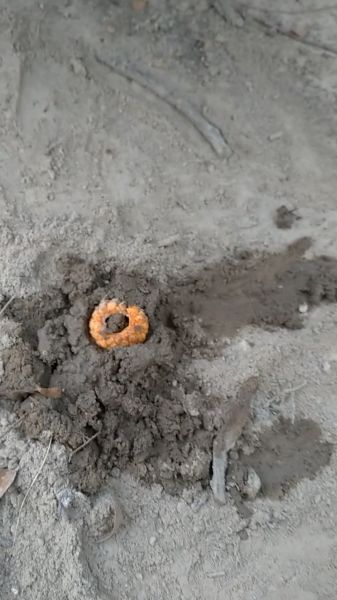eggs: (86, 299, 154, 353)
